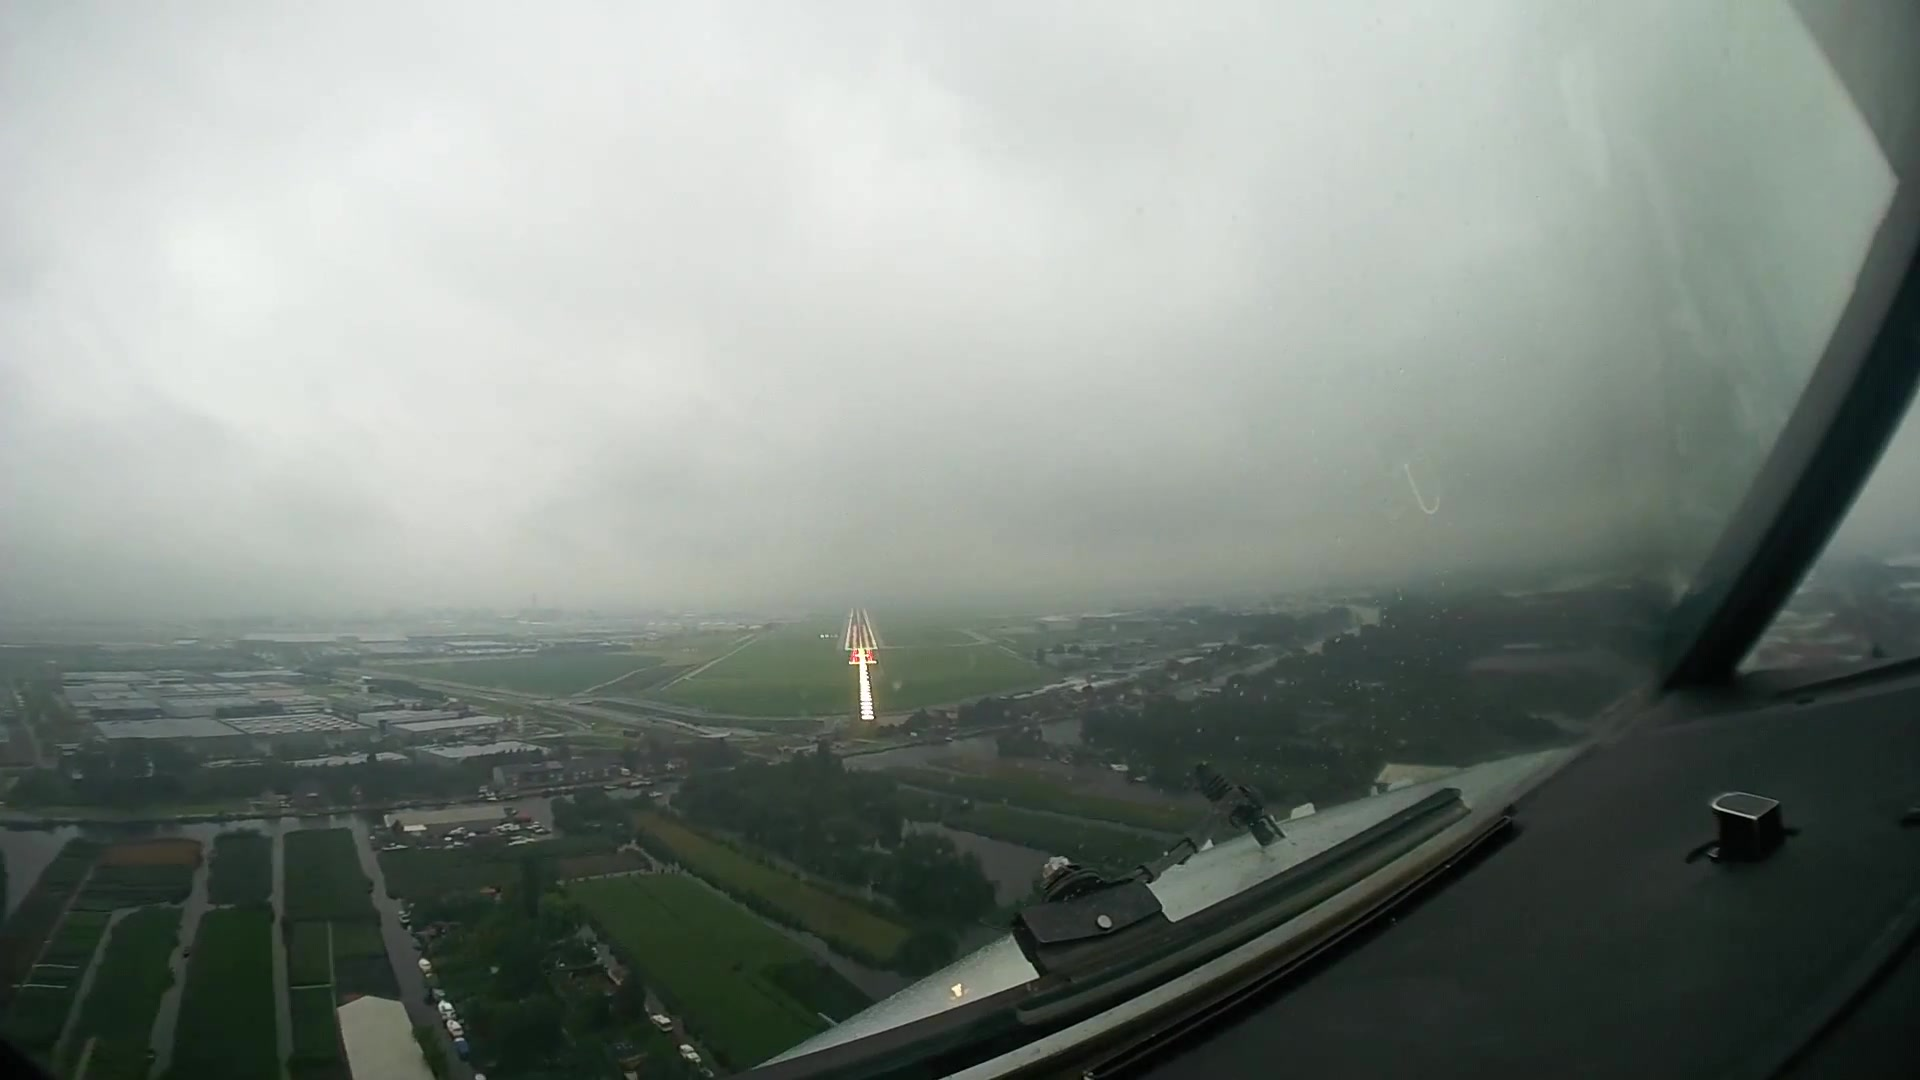runway: (840, 609, 881, 651)
